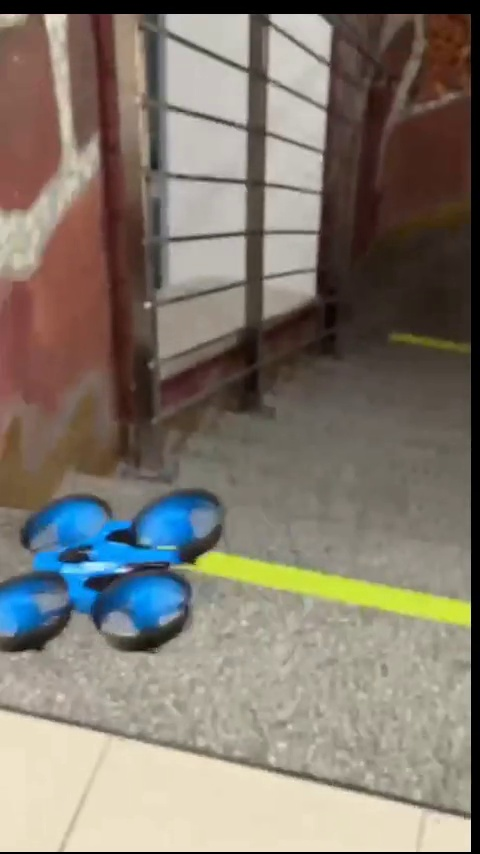drone: (3, 494, 228, 662)
